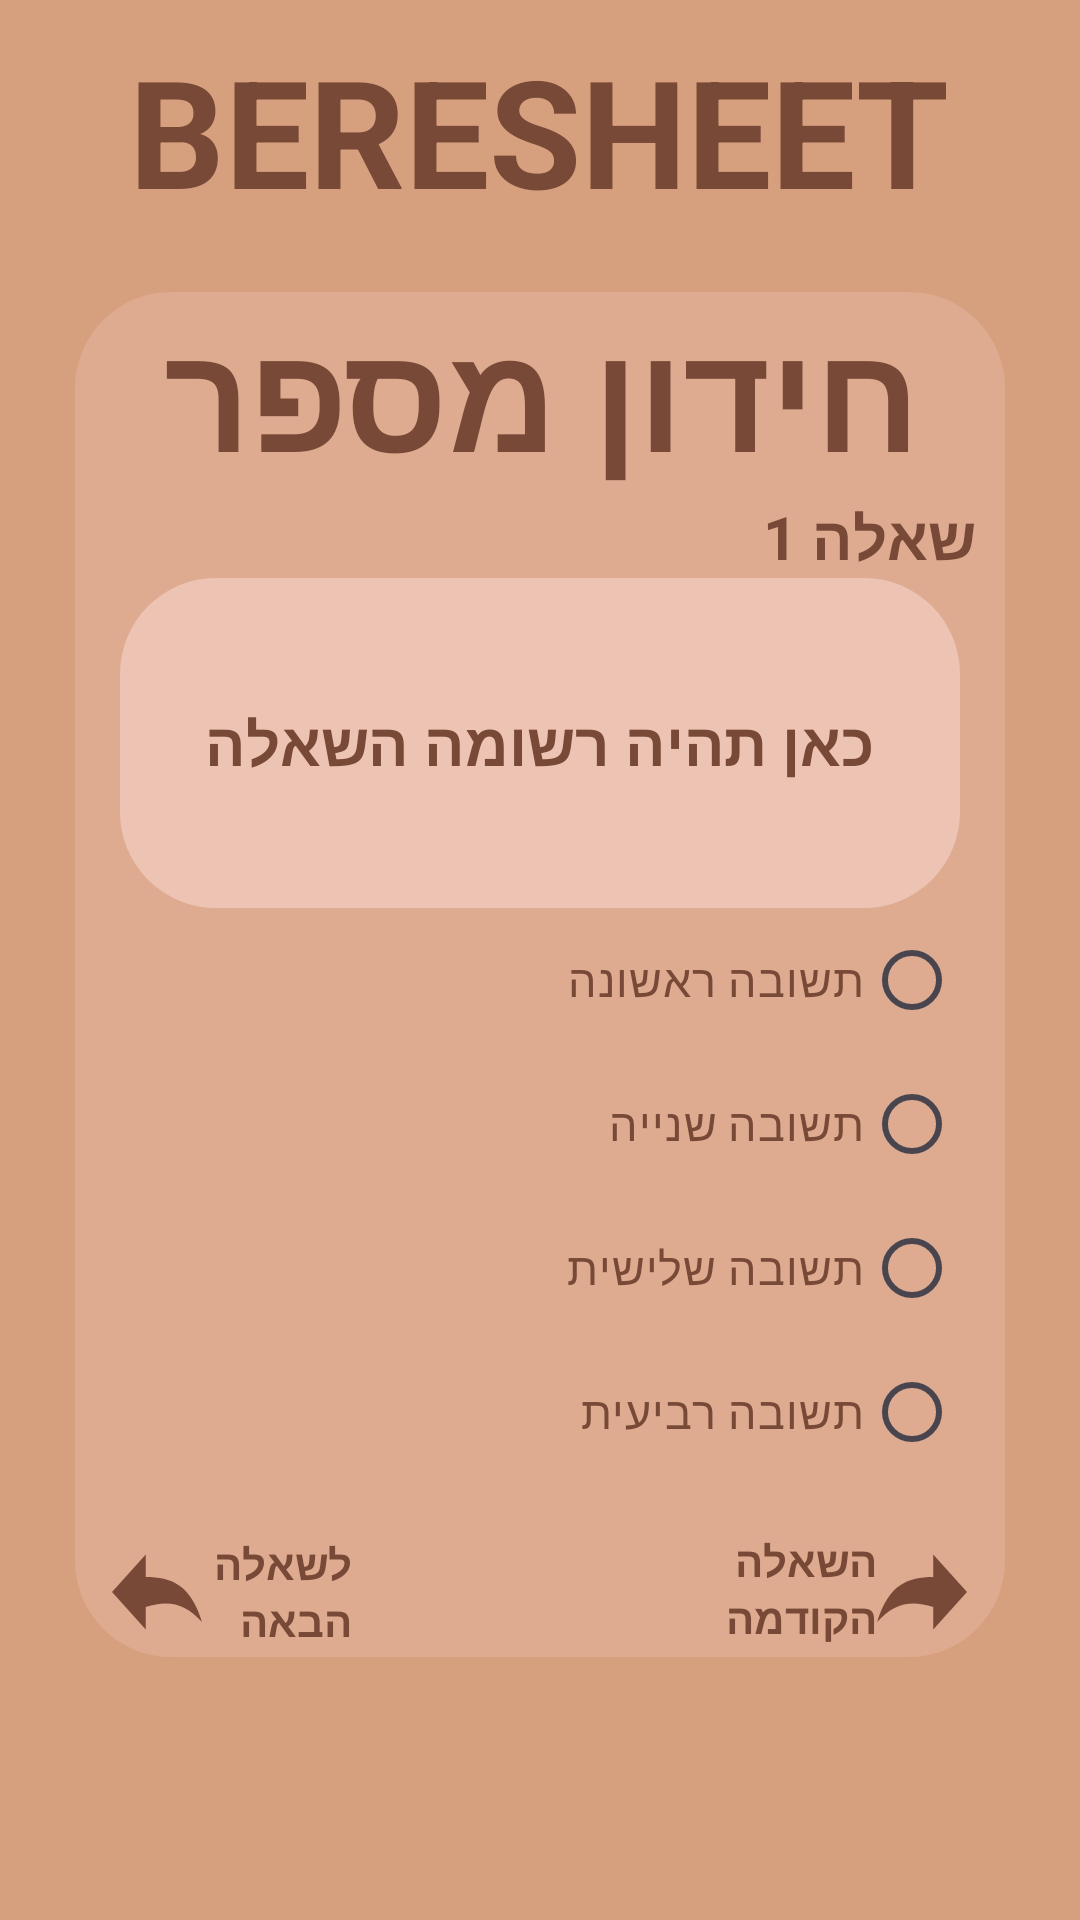

Point at icon controls on the screen. Image size 1080 x 1920, points as (x,y).
next: (157,1592), (922,1592)
